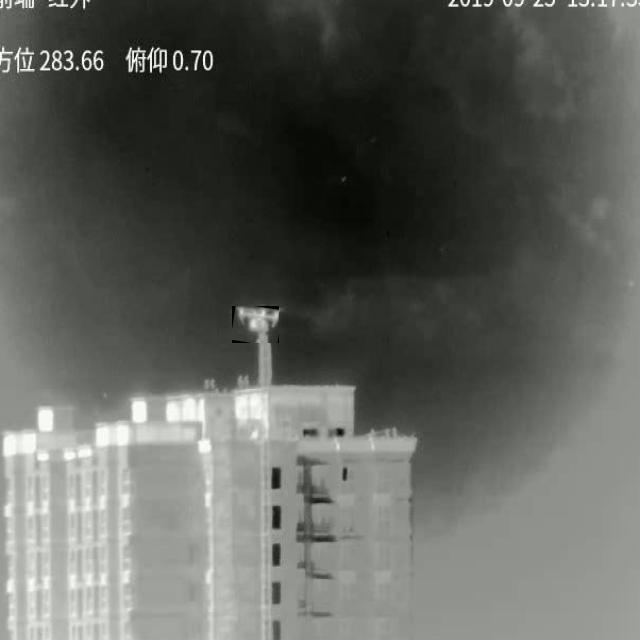drone: (235, 306, 279, 343)
